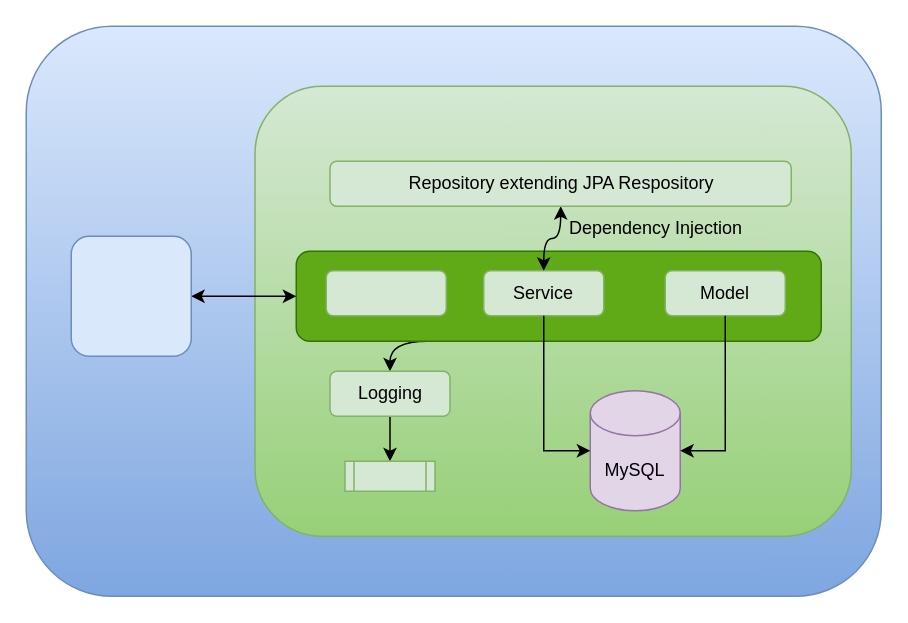
The diagram is 908 pixels wide and 623 high, and some of its shapes have lost their labels. The shapes that lost their labels are listed below. From the top down, each one's centre as x and y in pixels, then its label:
At point (130, 295): "React Client".
At point (385, 292): "Rest Controller".
At point (389, 475): "Logs".
